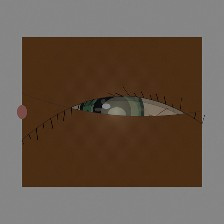corneal_ulcer: (89, 88, 150, 136)
